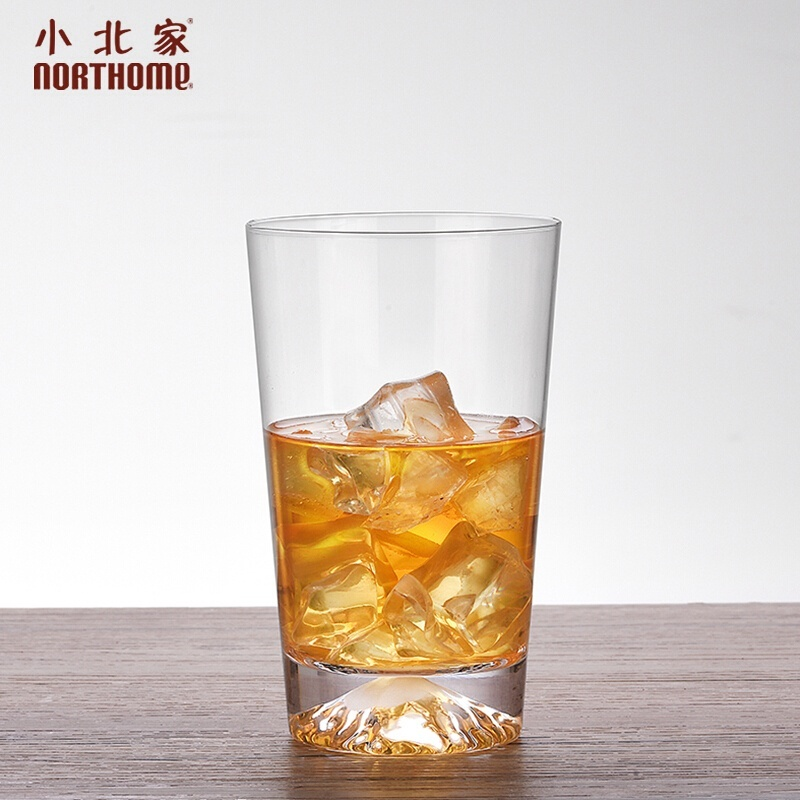whiskey: (248, 215, 553, 754)
